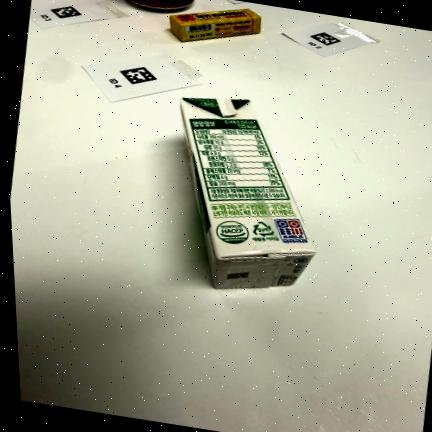milk_green: (181, 98, 316, 289)
